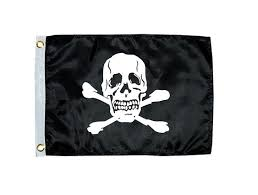Jolly Roger Flag: (43, 33, 216, 158)
